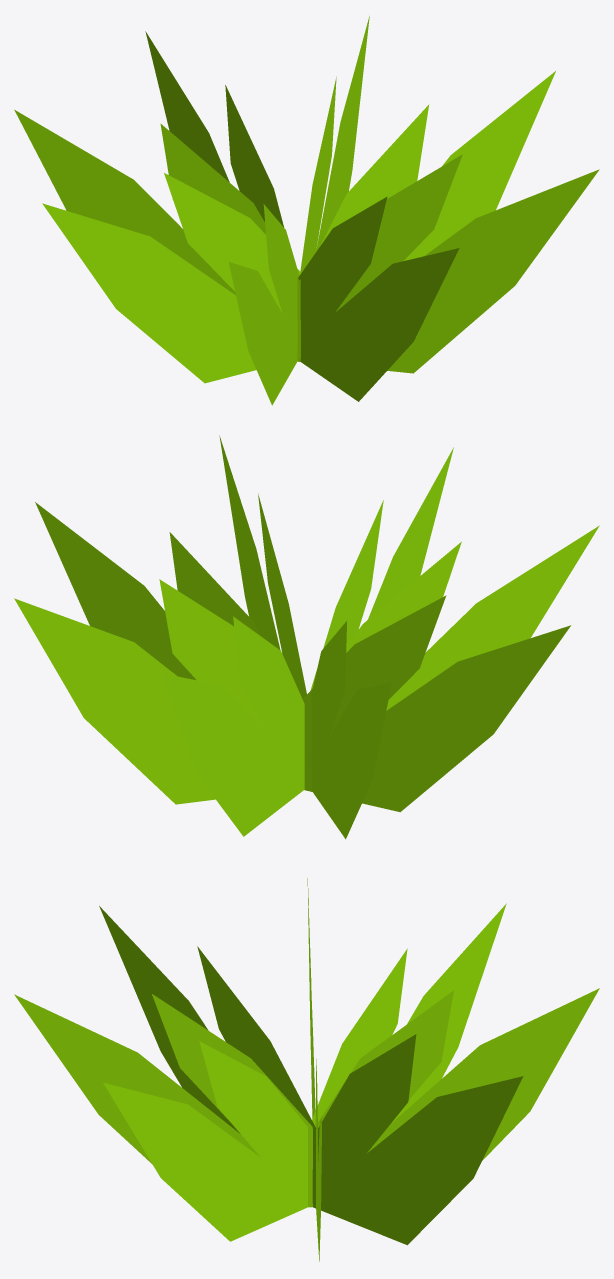
Rendered from Grass.glb.
3 views of the same model, one above another, from view 1: azimuth 30°, elevation 25°; view 2: azimuth 150°, elevation 25°; view 3: azimuth 270°, elevation 25° (orthographic). The views are drawn at different scales.
Parts seen in each view (by area): view 1: Plane.004; view 2: Plane.004; view 3: Plane.004.
Part boxes in pixels (left/top/right/bottom): Plane.004: left=14, top=16, right=599, bottom=405; Plane.004: left=14, top=435, right=599, bottom=839; Plane.004: left=14, top=878, right=599, bottom=1261.
Size of the model in its own units: 2.46 by 1.01 by 2.46.
